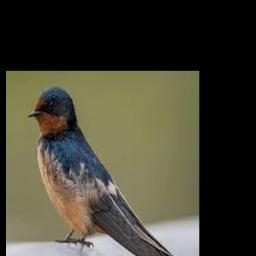Swallow: (29, 85, 187, 256)
